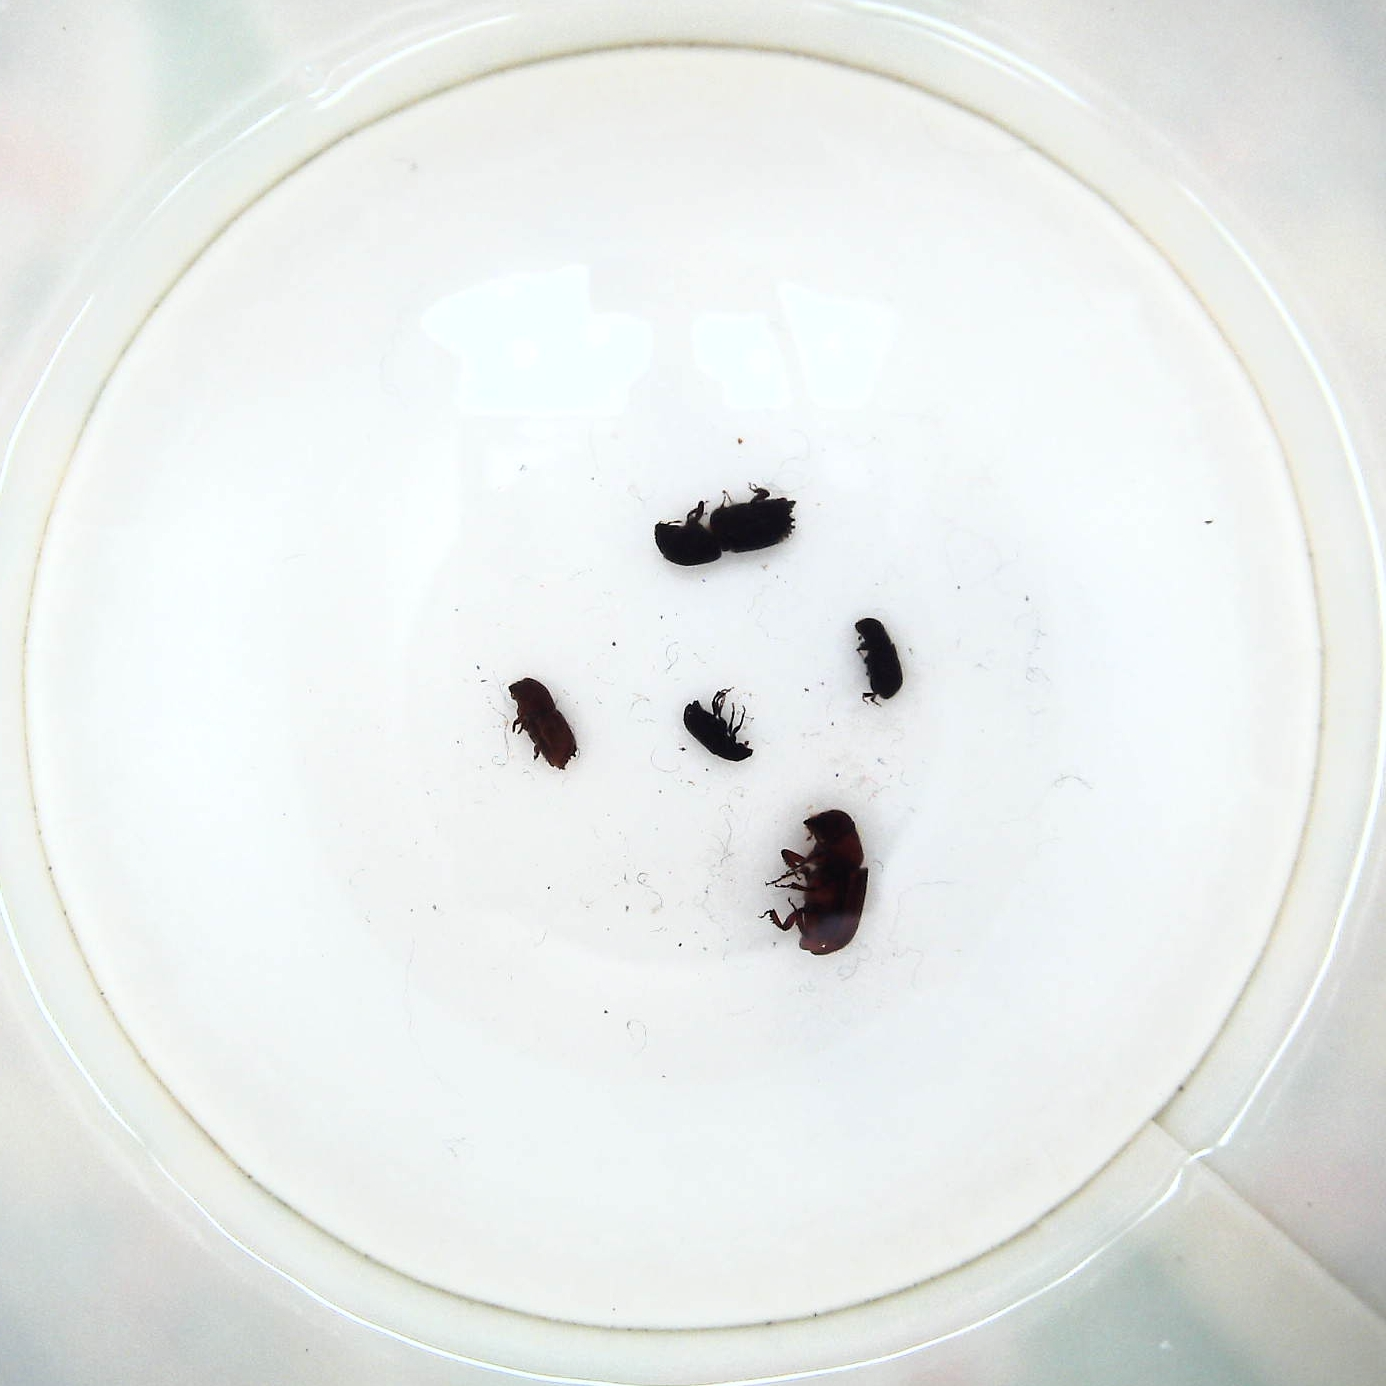Boerner: (652, 484, 801, 571)
Leconte: (767, 808, 874, 956)
armandi: (845, 613, 904, 704)
coleoptera: (675, 685, 753, 769)
linnaeus: (504, 673, 583, 778)
